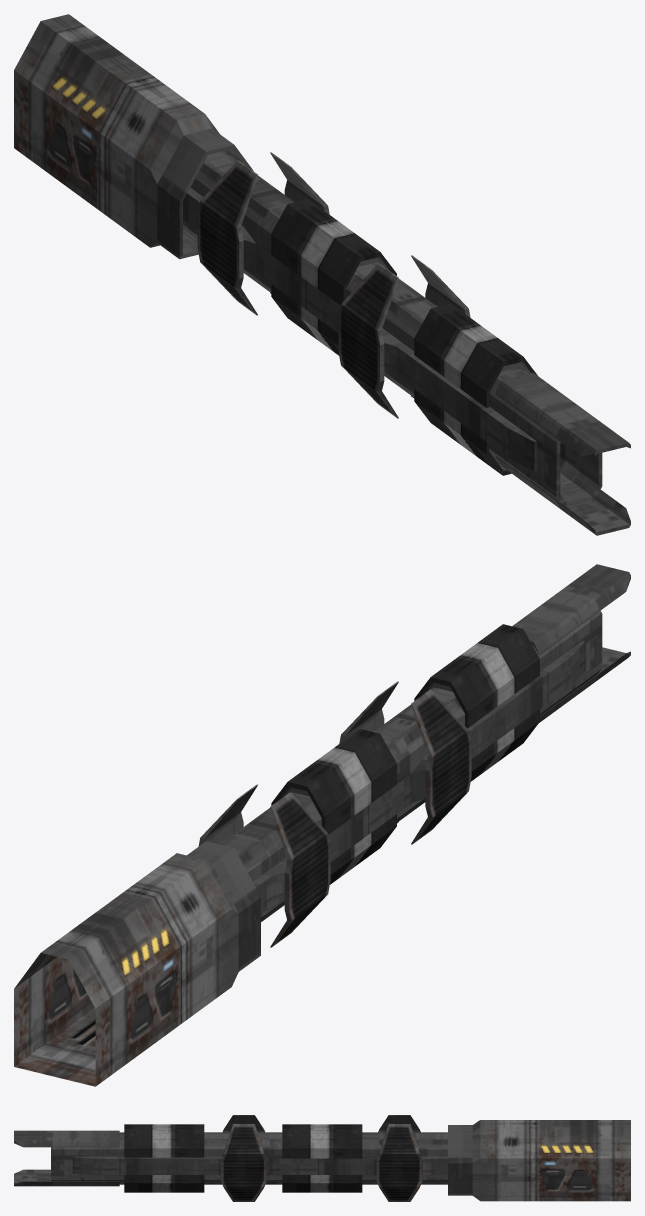
The model's file is ScifiFighterBarrel7.fbx.
3 views of the same model, one above another, from view 1: azimuth 30°, elevation 25°; view 2: azimuth 150°, elevation 25°; view 3: azimuth 270°, elevation 25° (orthographic). The views are drawn at different scales.
Visible parts, largest first — view 1: ScifiFighterBarrel7; view 2: ScifiFighterBarrel7; view 3: ScifiFighterBarrel7.
Part boxes in pixels (x1,y1,x2,y2): ScifiFighterBarrel7: (14, 14, 630, 535); ScifiFighterBarrel7: (14, 564, 630, 1086); ScifiFighterBarrel7: (14, 1115, 630, 1201).
Bounding box in the file's own units: 0.1484 × 1.57 × 0.2178.
